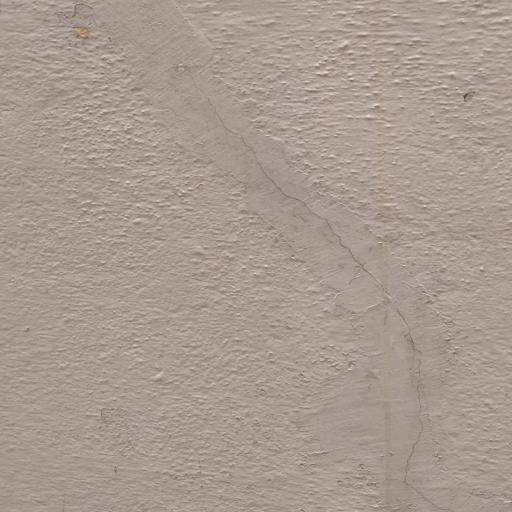minor_crack: (141, 0, 469, 512)
